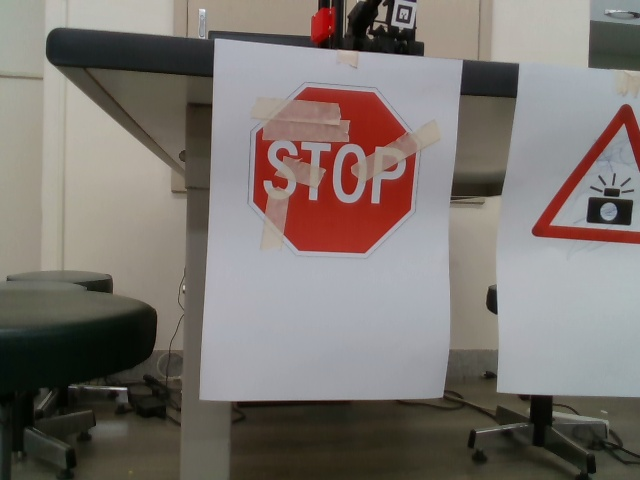camera: (531, 102, 640, 238)
stop: (249, 79, 424, 260)
